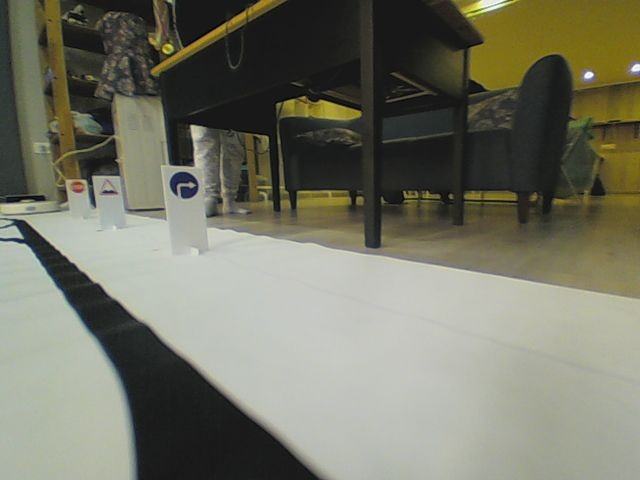Nerov: (97, 178, 118, 197)
Right: (168, 169, 200, 200)
